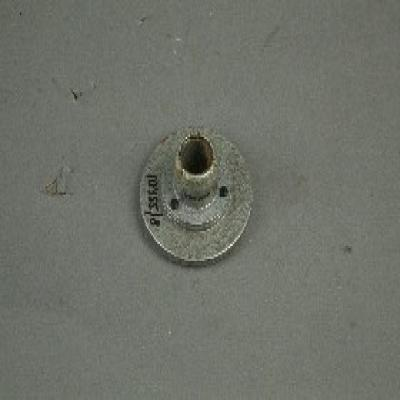technique: (140, 130, 250, 263)
